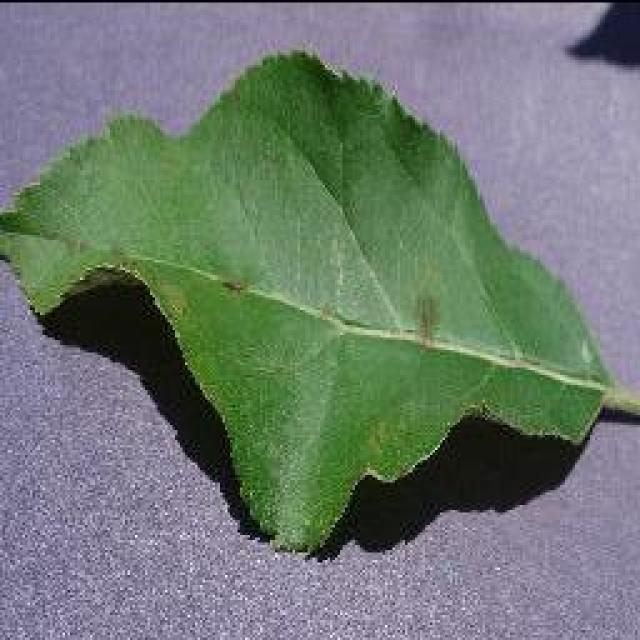apple scab disease: (0, 45, 638, 557)
